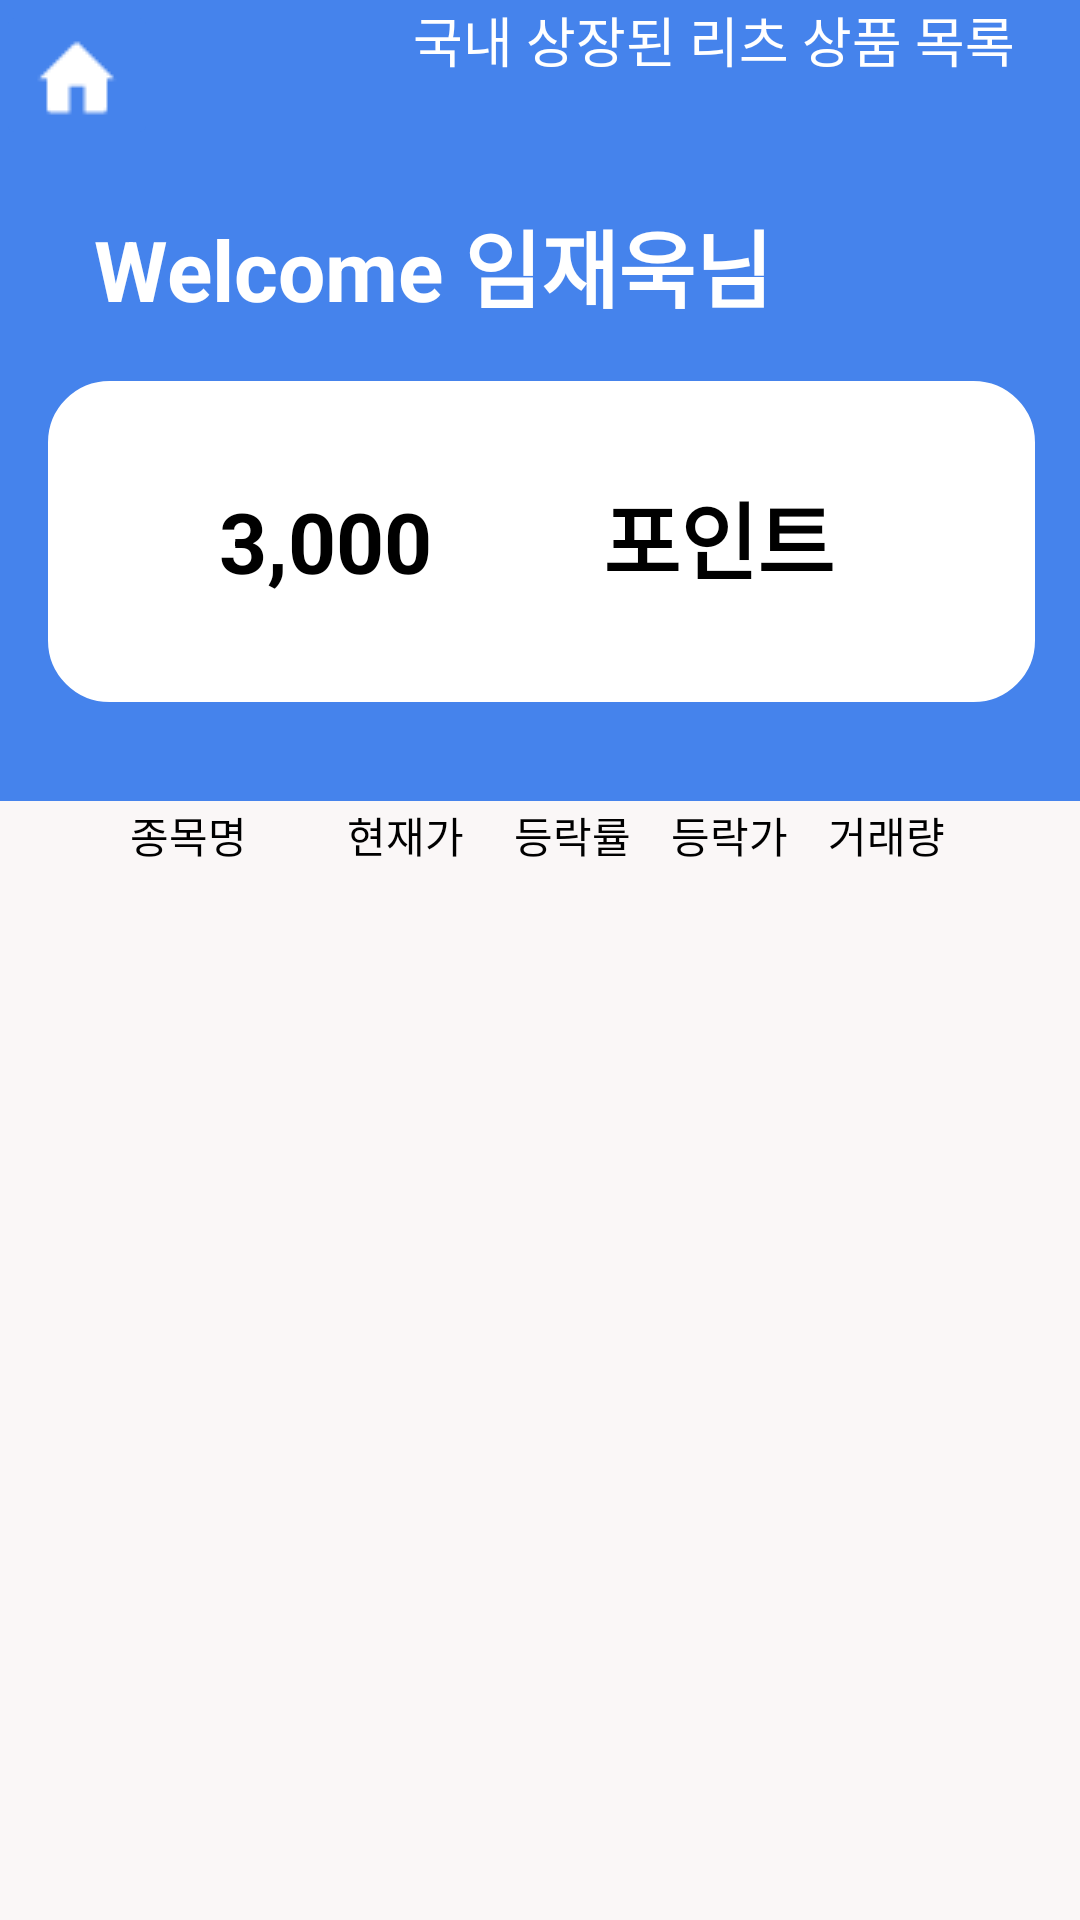

Point at icon controls on the screen. Image size 1080x1920, points as (x=x, y=y).
home: (x=77, y=78)
